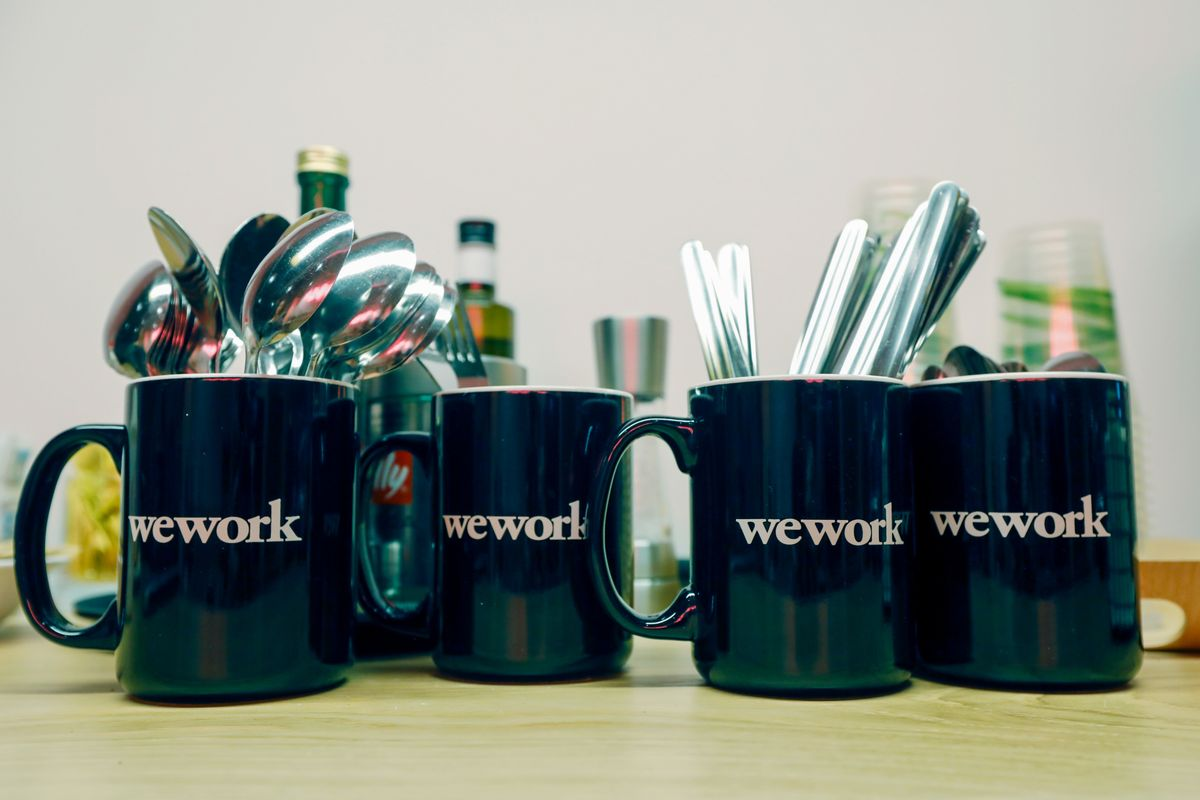wework: (925, 488, 1113, 544), (124, 493, 306, 549), (732, 498, 909, 550)
